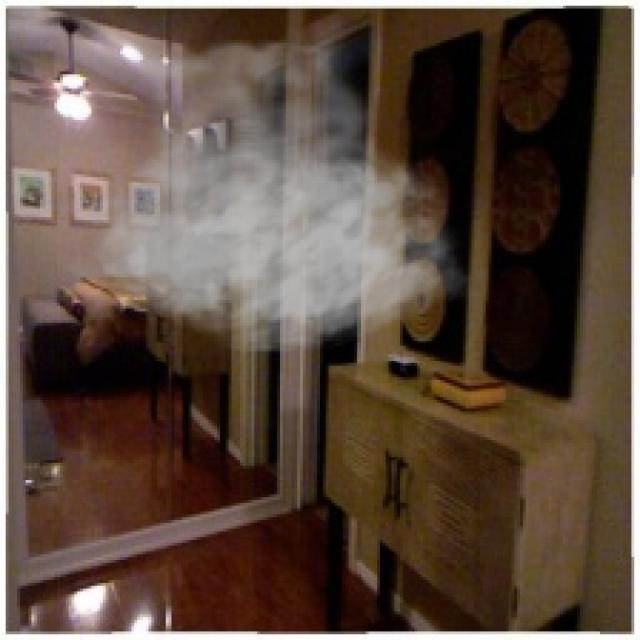Smoke: (57, 8, 472, 354)
